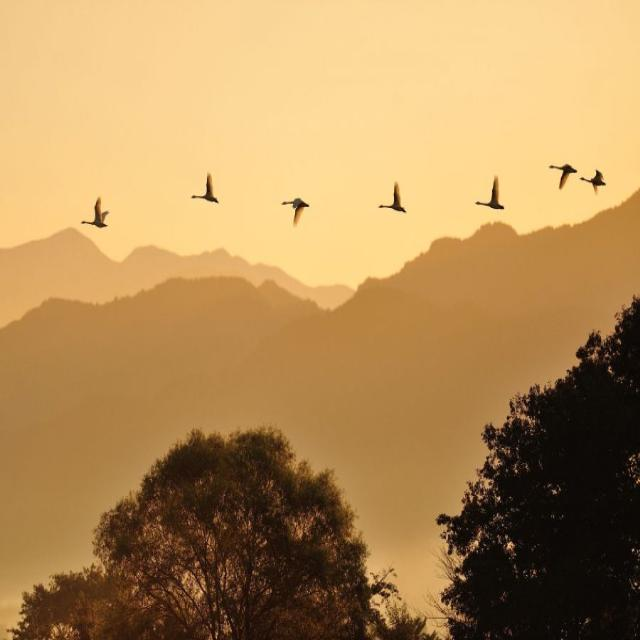bird: (476, 176, 508, 216), (378, 179, 410, 218), (190, 173, 220, 208), (280, 198, 310, 230), (84, 197, 110, 232), (551, 164, 582, 190), (583, 171, 608, 194)
